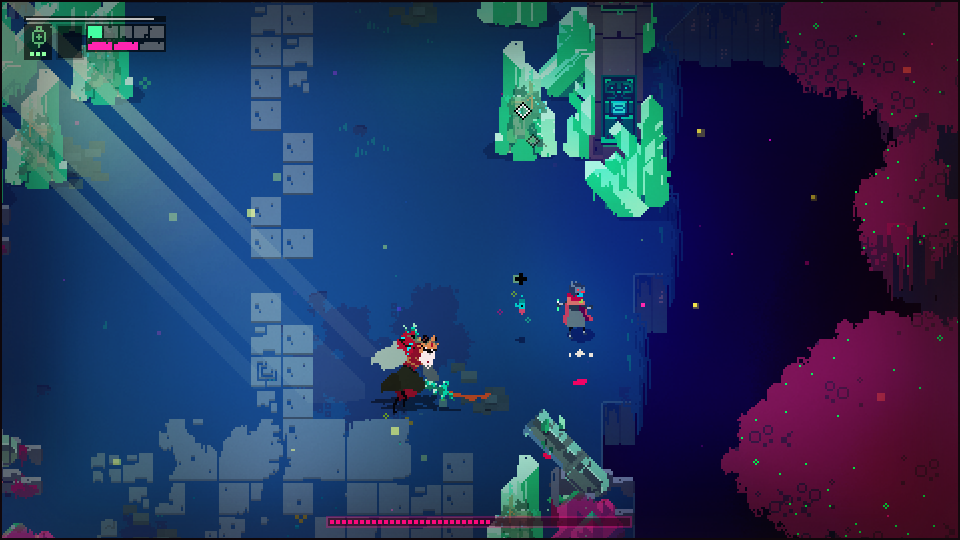hanged_man: (372, 317, 465, 417)
player: (557, 279, 594, 344)
